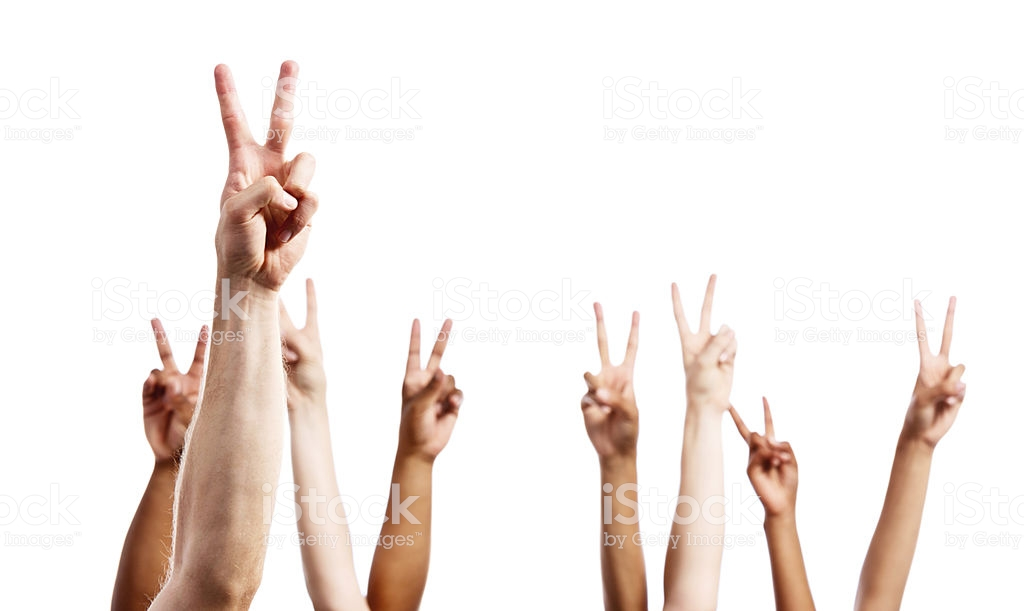v_s: (200, 56, 324, 296), (563, 294, 646, 459), (896, 292, 975, 451), (730, 391, 832, 513), (393, 313, 473, 467), (126, 311, 208, 451), (666, 265, 738, 412)
